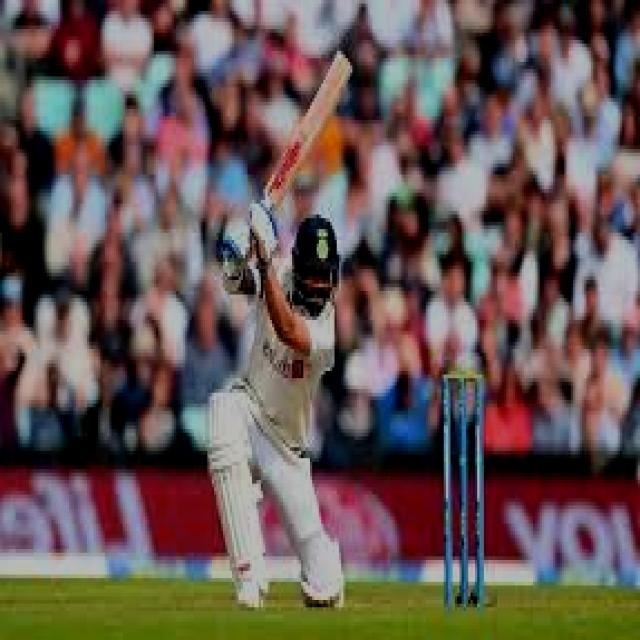bat: (265, 49, 354, 211)
